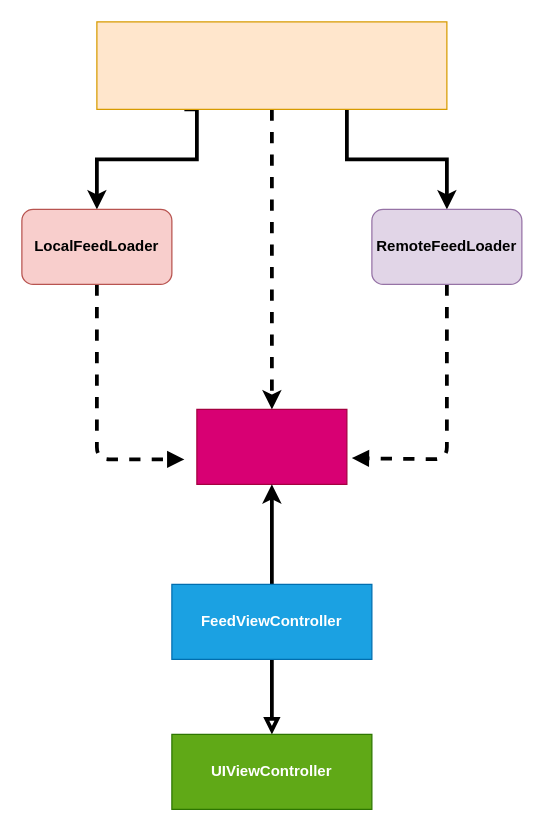
Image size: 544x831. Some labels were removed from this diagram. The centre of each missing label's shape, as x and y in pixels:
FeedFetcher: (271,446)
RemoteWithLocalFallBackFeedFetcher: (271,65)
